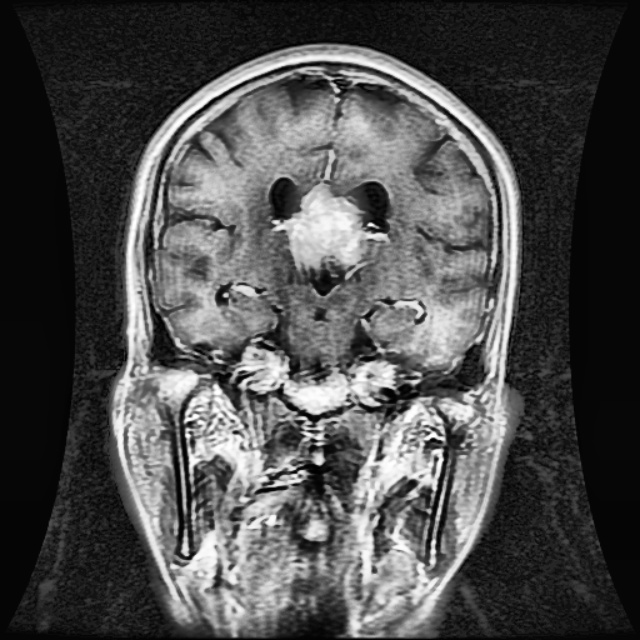Glioma: (277, 184, 387, 282)
